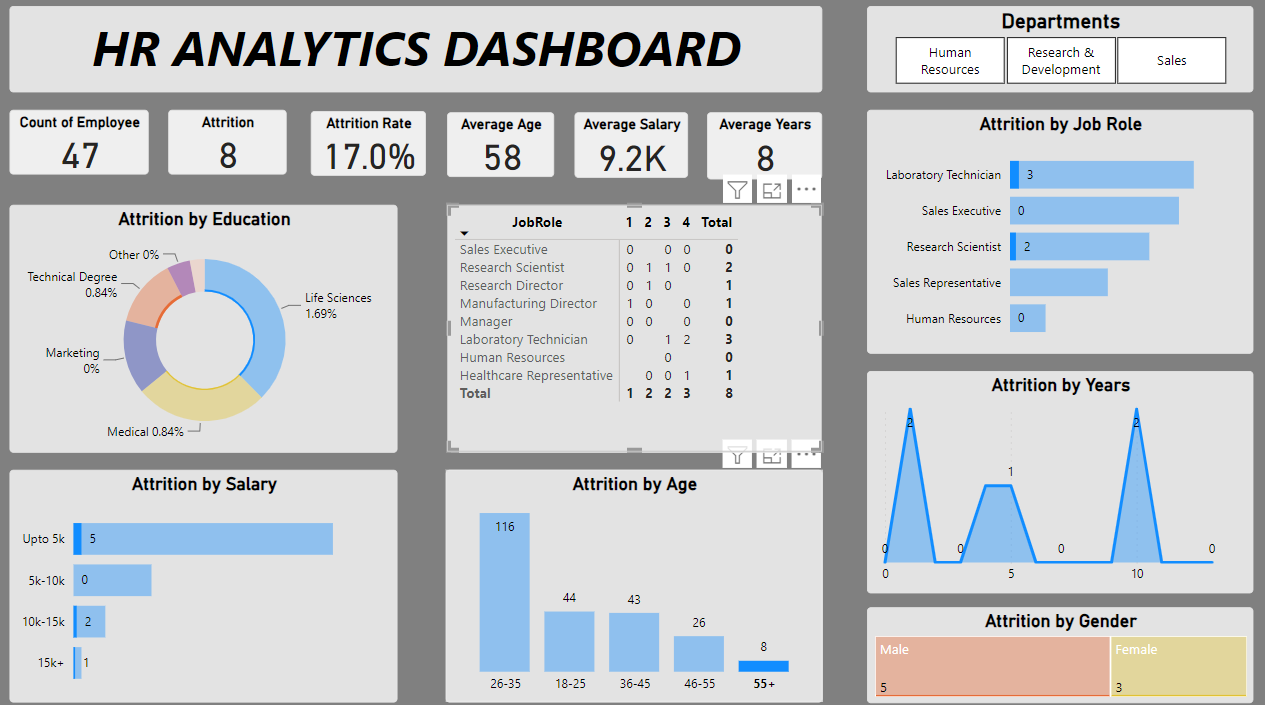

The page's visual inventory and layout, read from the dashboard file:
{"tool":"powerbi","page":{"name":"Page 1","canvas":[1280,720],"ordinal":0},"visuals":[{"type":"card","title":"Count of Employee","fields":{"Values":["CountNonNull(HR_Analytics.EmpID)"]},"box":[17,113.8,139.4,64.9],"z":0},{"type":"card","title":"Attrition","fields":{"Values":["Sum(HR_Analytics.AttritionCount)"]},"box":[176.6,113.8,118.1,64.9],"z":1000},{"type":"card","title":"Attrition Rate","fields":{"Values":["HR_Analytics.AttritionRate"]},"box":[319.1,114.9,114.9,64.9],"z":2000},{"type":"card","title":"Average Age ","fields":{"Values":["Avg(HR_Analytics.Age)"]},"box":[455.3,116,107.4,64.9],"z":3000},{"type":"card","title":"Average Salary","fields":{"Values":["Avg(HR_Analytics.MonthlyIncome)"]},"box":[583,116,113.8,66],"z":4000},{"type":"card","title":"Average Years ","fields":{"Values":["Avg(HR_Analytics.YearsAtCompany)"]},"box":[714.9,116,114.9,67],"z":5000},{"type":"donutChart","title":"Attrition by Education","fields":{"Category":["HR_Analytics.EducationField"],"Y":["Sum(HR_Analytics.AttritionCount)"]},"box":[17,208.5,388.3,247.9],"z":6000},{"type":"columnChart","title":"Attrition by Age","fields":{"Category":["HR_Analytics.AgeGroup"],"Y":["Sum(HR_Analytics.AttritionCount)"]},"box":[453.2,473.4,376.6,233],"z":7000},{"type":"pivotTable","fields":{"Rows":["HR_Analytics.JobRole"],"Columns":["HR_Analytics.JobSatisfaction"],"Values":["Sum(HR_Analytics.AttritionCount)"]},"box":[455.3,208.5,374.5,247.9],"z":8000},{"type":"barChart","title":"Attrition by Salary","fields":{"Category":["HR_Analytics.SalarySlab"],"Y":["Sum(HR_Analytics.AttritionCount)"]},"box":[17,473.4,388.3,233],"z":9000},{"type":"barChart","title":"Attrition by Job Role","fields":{"Category":["HR_Analytics.JobRole"],"Y":["Sum(HR_Analytics.AttritionCount)"]},"box":[875.5,113.8,386.2,243.6],"z":10000},{"type":"areaChart","title":"Attrition by Years","fields":{"Category":["HR_Analytics.YearsAtCompany"],"Y":["Sum(HR_Analytics.AttritionCount)"]},"box":[875,375,386.2,222.5],"z":11000},{"type":"treemap","title":"Attrition by Gender","fields":{"Group":["HR_Analytics.Gender"],"Values":["Sum(HR_Analytics.AttritionCount)"]},"box":[875.5,610.6,386.2,95.7],"z":12000},{"type":"slicer","title":"Departments","fields":{"Values":["HR_Analytics.Department"]},"box":[875.5,9.6,386.2,86.2],"z":13000},{"type":"textbox","box":[17,9.6,812.8,86.2],"z":14000}]}

Visuals, with their boxes in screenshot pixels (x1, y1, x2, y2), scaled from the page's 1280x720 canvas onto the 1265x705 screenshot:
"Count of Employee" card: left=17, top=111, right=155, bottom=175
"Attrition" card: left=175, top=111, right=291, bottom=175
"Attrition Rate" card: left=315, top=113, right=429, bottom=176
"Average Age " card: left=450, top=114, right=556, bottom=177
"Average Salary" card: left=576, top=114, right=689, bottom=178
"Average Years " card: left=707, top=114, right=820, bottom=179
"Attrition by Education" donutChart: left=17, top=204, right=401, bottom=447
"Attrition by Age" columnChart: left=448, top=464, right=820, bottom=692
pivotTable - HR_Analytics.JobRole x HR_Analytics.JobSatisfaction: left=450, top=204, right=820, bottom=447
"Attrition by Salary" barChart: left=17, top=464, right=401, bottom=692
"Attrition by Job Role" barChart: left=865, top=111, right=1247, bottom=350
"Attrition by Years" areaChart: left=865, top=367, right=1246, bottom=585
"Attrition by Gender" treemap: left=865, top=598, right=1247, bottom=692
"Departments" slicer: left=865, top=9, right=1247, bottom=94
textbox: left=17, top=9, right=820, bottom=94
